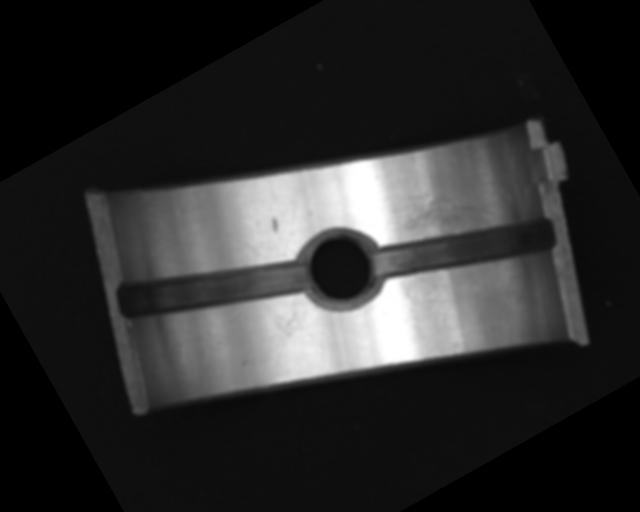bruise: (266, 214, 283, 234)
gap: (111, 202, 313, 372), (370, 172, 563, 329)
hole: (287, 215, 395, 324)
scratch: (387, 170, 502, 265)
